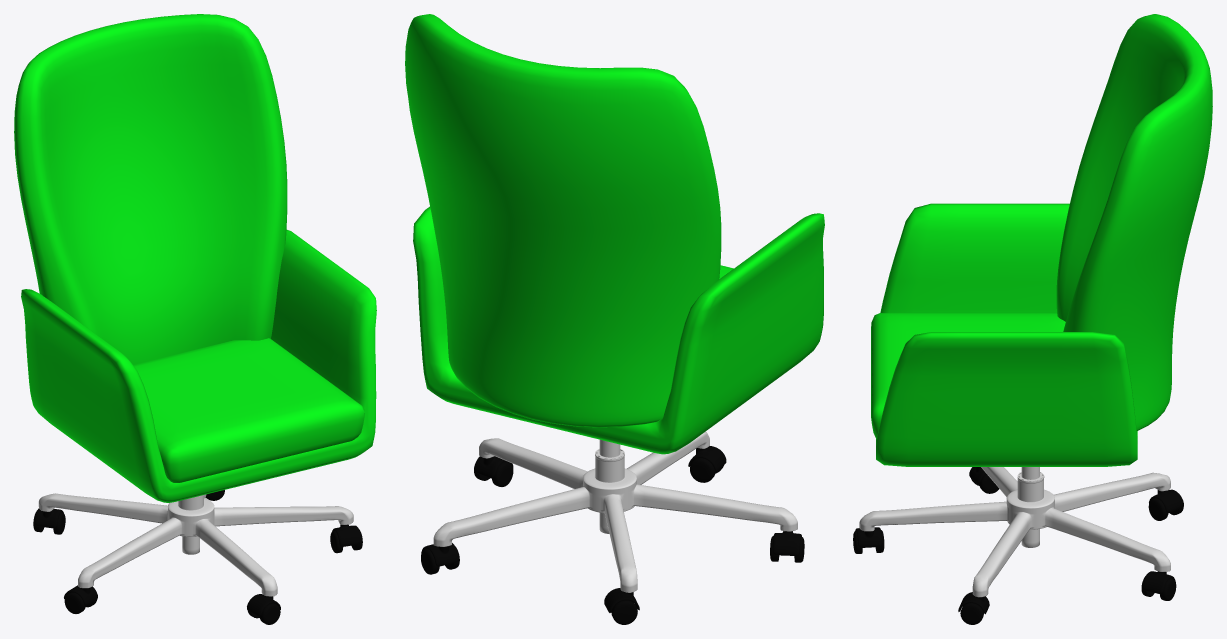
Rendered from seat_big_green.glb.
3 renders of one model, left to right at view 1: azimuth 30°, elevation 25°; view 2: azimuth 150°, elevation 25°; view 3: azimuth 270°, elevation 25°, orthographic. The views are drawn at different scales.
Parts seen in each view (by area): view 1: seat_side_low_7, pasted__pCylinder1_7; view 2: seat_side_low_7, pasted__pCylinder1_7; view 3: seat_side_low_7, pasted__pCylinder1_7.
Boxes of the visible parts, x1,y1,x2,y2 form: seat_side_low_7: [14, 14, 376, 502]; pasted__pCylinder1_7: [33, 490, 362, 624]; seat_side_low_7: [405, 14, 824, 454]; pasted__pCylinder1_7: [421, 431, 804, 624]; seat_side_low_7: [871, 14, 1212, 466]; pasted__pCylinder1_7: [853, 467, 1183, 624].
Size of the model in its own units: 0.772 by 1.22 by 0.8101.
